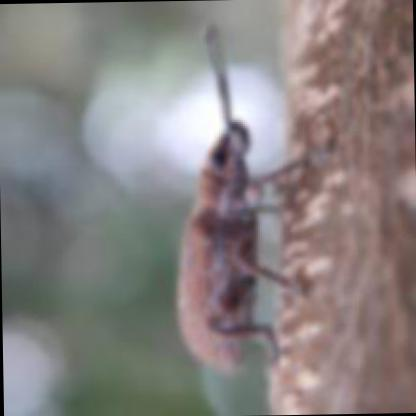ash weevil: (174, 28, 304, 378)
